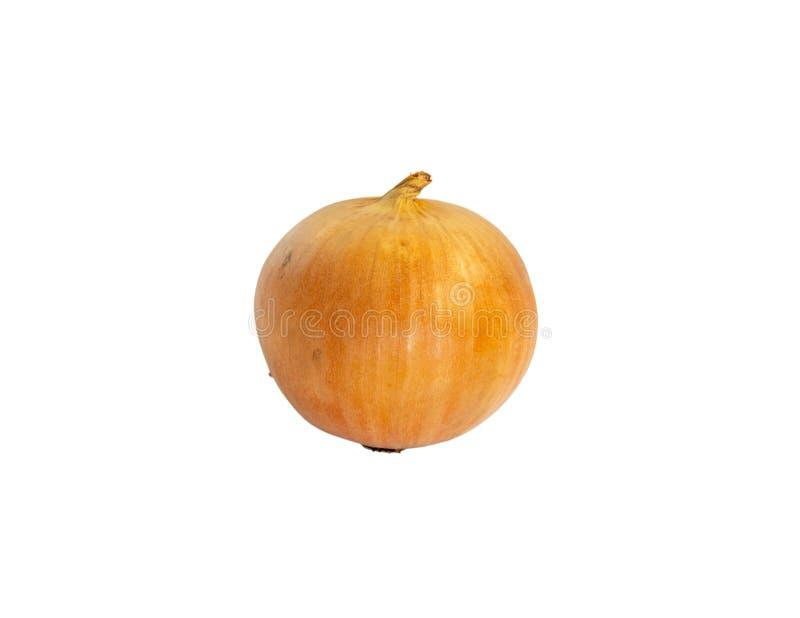Onion: (254, 172, 537, 451)
